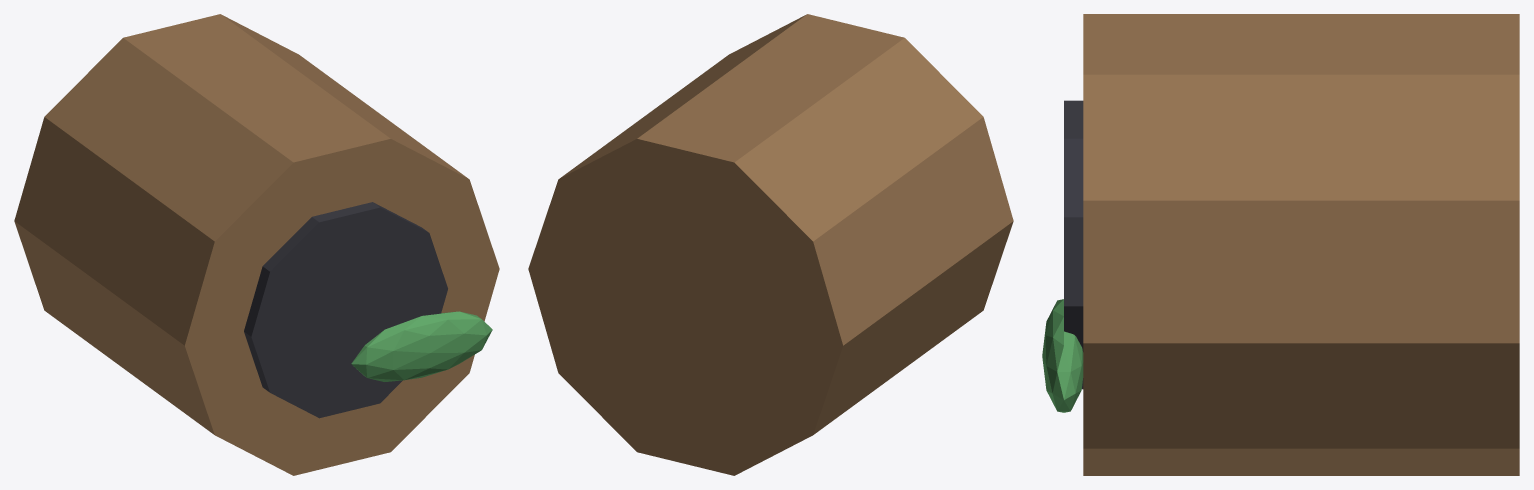
File: forest_hollow_stump.glb
3 renders of one model, left to right at view 1: azimuth 30°, elevation 25°; view 2: azimuth 150°, elevation 25°; view 3: azimuth 270°, elevation 25°, orthographic. The views are drawn at different scales.
Visible parts, largest first — view 1: stump_outer, hollow_dark, moss_lip; view 2: stump_outer; view 3: stump_outer, hollow_dark, moss_lip.
Boxes of the visible parts, <box> form: stump_outer: <box>14,14,499,475</box>; hollow_dark: <box>244,202,447,418</box>; moss_lip: <box>351,311,492,381</box>; stump_outer: <box>528,14,1013,475</box>; stump_outer: <box>1083,14,1519,475</box>; hollow_dark: <box>1064,100,1083,389</box>; moss_lip: <box>1042,299,1083,412</box>.
Bounding box in the file's own units: 0.96 × 0.913 × 0.985.
